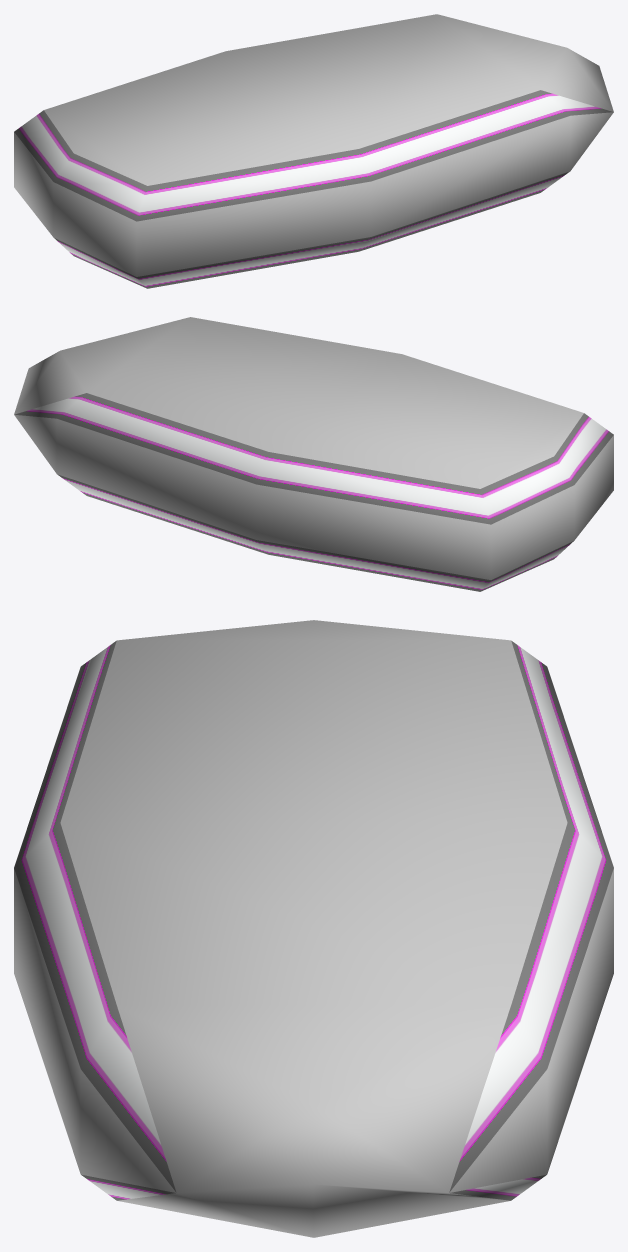
File: tankBodyRedo.fbx
3 renders of one model, top to bottom at view 1: azimuth 30°, elevation 25°; view 2: azimuth 150°, elevation 25°; view 3: azimuth 270°, elevation 25°, orthographic. The views are drawn at different scales.
Visible parts, largest first — view 1: Cube; view 2: Cube; view 3: Cube.
Boxes of the visible parts, left/top/right/bottom form: Cube: left=14, top=14, right=613, bottom=288; Cube: left=14, top=317, right=613, bottom=591; Cube: left=14, top=620, right=613, bottom=1237.
Bounding box in the file's own units: 5.55 × 0.9994 × 2.78.
